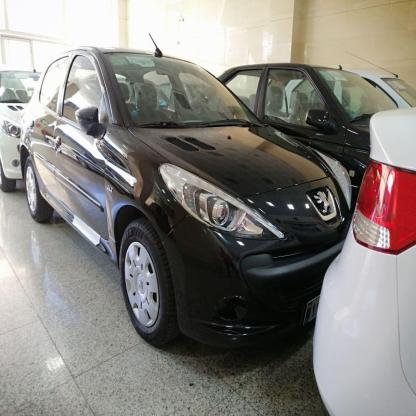Car: (29, 38, 342, 363), (306, 99, 416, 416), (228, 44, 406, 202), (0, 56, 71, 180)
